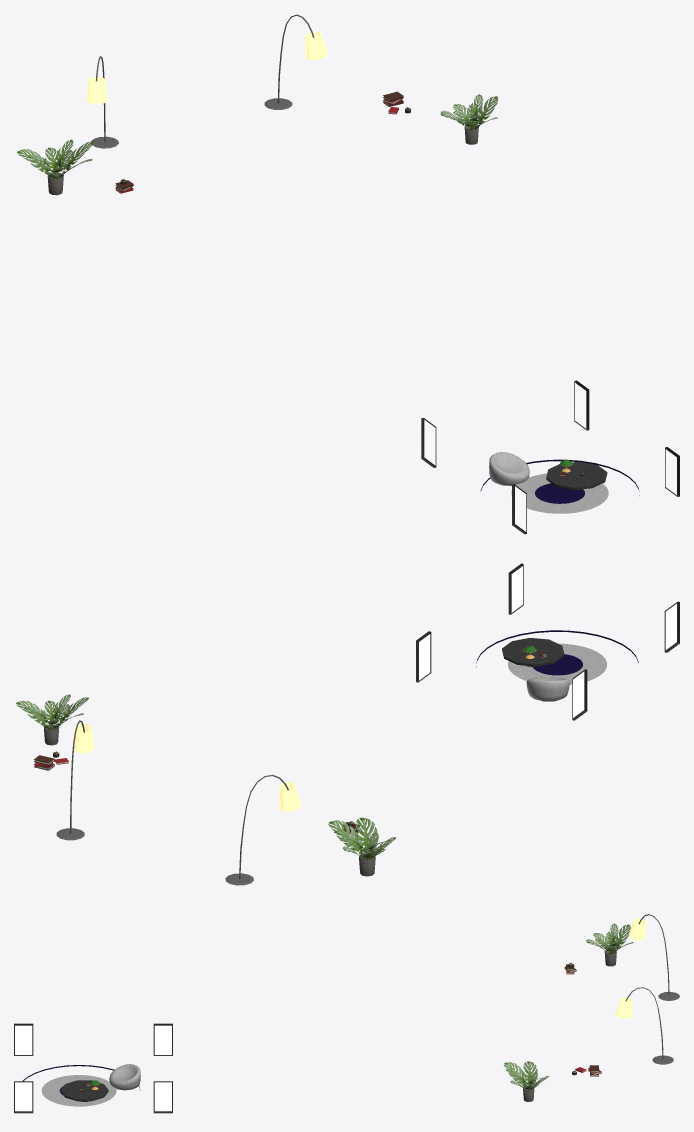
File: kpmg_bank_decor_main_geo_1.glb
The picture shows the model from 3 angles, top to bottom: view 1: azimuth 30°, elevation 25°; view 2: azimuth 150°, elevation 25°; view 3: azimuth 270°, elevation 25°; orthographic projection. The views are drawn at different scales.
Visible parts, largest first — view 1: Plane, Circle, Plant, coffee_table.002, Plant.001, seat_3.002, BezierCurve.001, BezierCurve; view 2: Plane, Circle, Plant, Plant.001, coffee_table.002, BezierCurve, BezierCurve.001, seat_3.002; view 3: Plane, Circle, Plant, Plant.001, coffee_table.002, seat_3.002, BezierCurve, BezierCurve.001.
Part boxes in pixels (left/top/right/bottom): Plane: left=421, top=380, right=679, bottom=534; Circle: left=480, top=459, right=639, bottom=513; Plant: left=17, top=139, right=93, bottom=195; coffee_table.002: left=546, top=461, right=607, bottom=490; Plant.001: left=440, top=94, right=497, bottom=145; seat_3.002: left=489, top=452, right=529, bottom=485; BezierCurve.001: left=264, top=14, right=327, bottom=109; BezierCurve: left=86, top=56, right=118, bottom=148; Plane: left=416, top=563, right=679, bottom=720; Circle: left=476, top=630, right=638, bottom=684; Plant: left=328, top=817, right=396, bottom=877; Plant.001: left=16, top=694, right=88, bottom=745; coffee_table.002: left=502, top=638, right=564, bottom=666; BezierCurve: left=225, top=774, right=300, bottom=885; BezierCurve.001: left=56, top=720, right=94, bottom=840; seat_3.002: left=526, top=677, right=569, bottom=701; Plane: left=14, top=1023, right=172, bottom=1113; Circle: left=22, top=1065, right=140, bottom=1106; Plant: left=586, top=923, right=633, bottom=966; Plant.001: left=503, top=1061, right=549, bottom=1102; coffee_table.002: left=60, top=1080, right=108, bottom=1101; seat_3.002: left=109, top=1064, right=140, bottom=1090; BezierCurve: left=628, top=914, right=679, bottom=1000; BezierCurve.001: left=615, top=987, right=673, bottom=1064.
Bounding box in the file's own units: 27.41 × 11.65 × 48.25.
19 materials, 8 textured.
